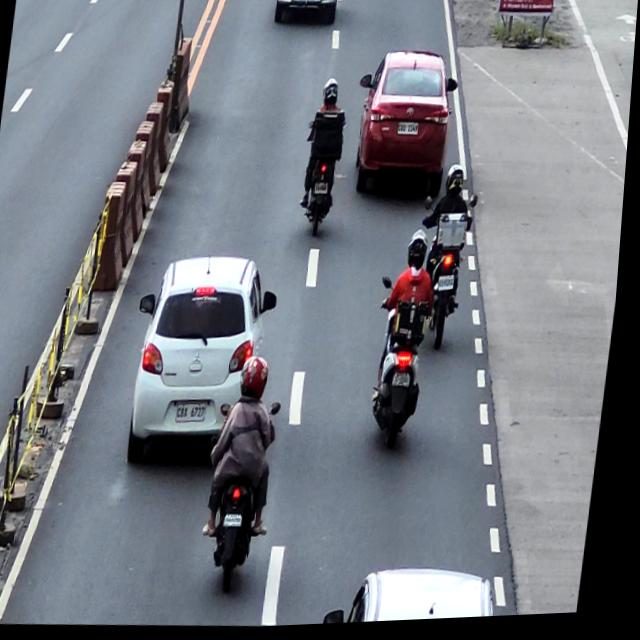Car: (127, 250, 287, 471), (348, 48, 463, 203), (332, 562, 533, 627), (273, 0, 339, 29)
License-Plate: (180, 402, 215, 427), (398, 124, 423, 141), (230, 514, 252, 533), (397, 374, 418, 393), (442, 279, 460, 296), (316, 182, 333, 198), (299, 0, 316, 6)
Motorcycle: (203, 400, 289, 599), (369, 277, 442, 455), (411, 194, 482, 356), (298, 114, 350, 241)
